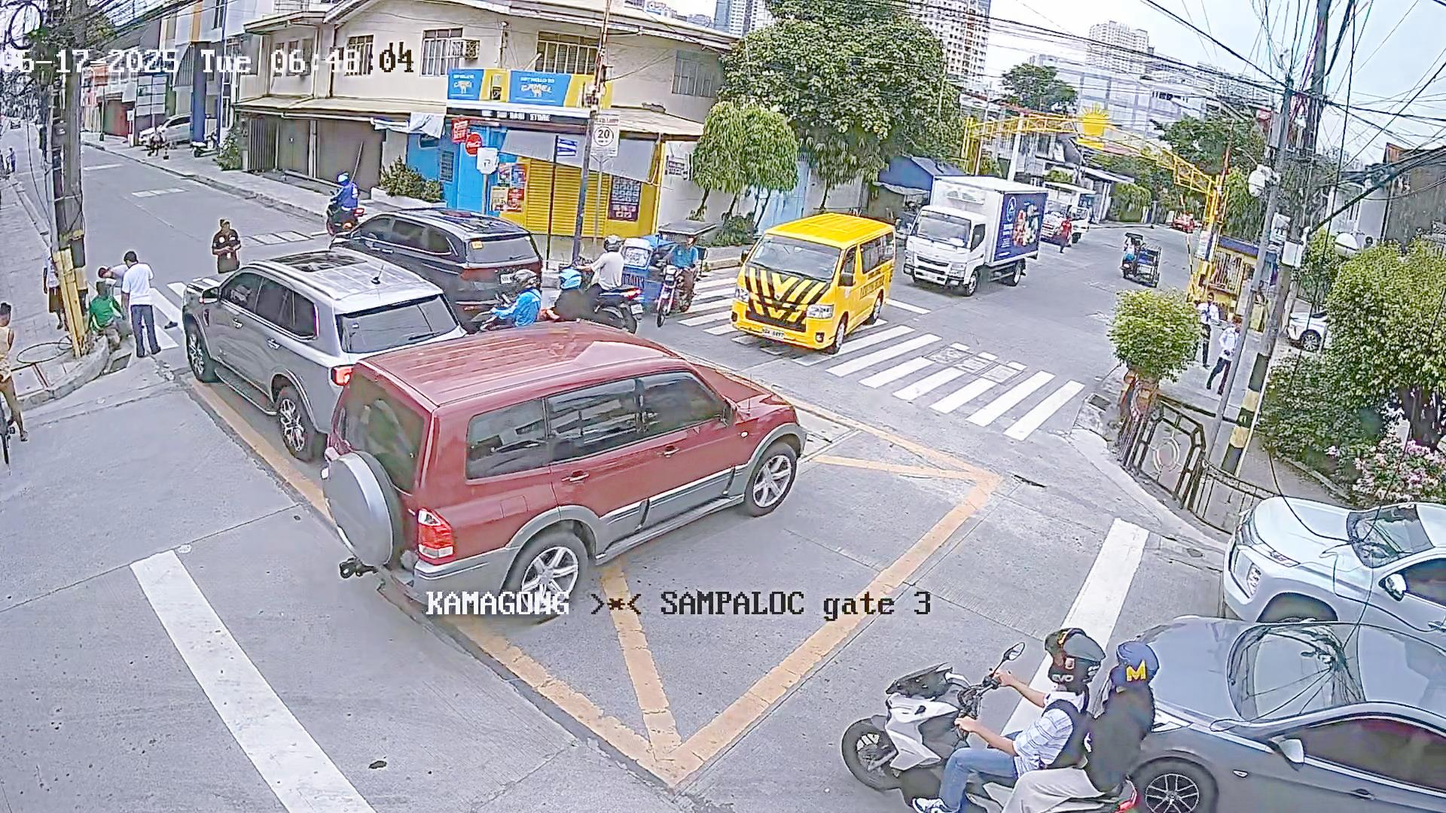Car: (246, 322, 845, 619), (1101, 583, 1446, 813), (163, 243, 458, 469), (1152, 438, 1446, 642), (711, 167, 909, 403), (316, 196, 554, 355), (903, 147, 1063, 307)
Motor: (869, 630, 1192, 813), (557, 238, 645, 359), (487, 259, 575, 335), (306, 169, 372, 235)
Not Accident: (179, 244, 759, 624)
